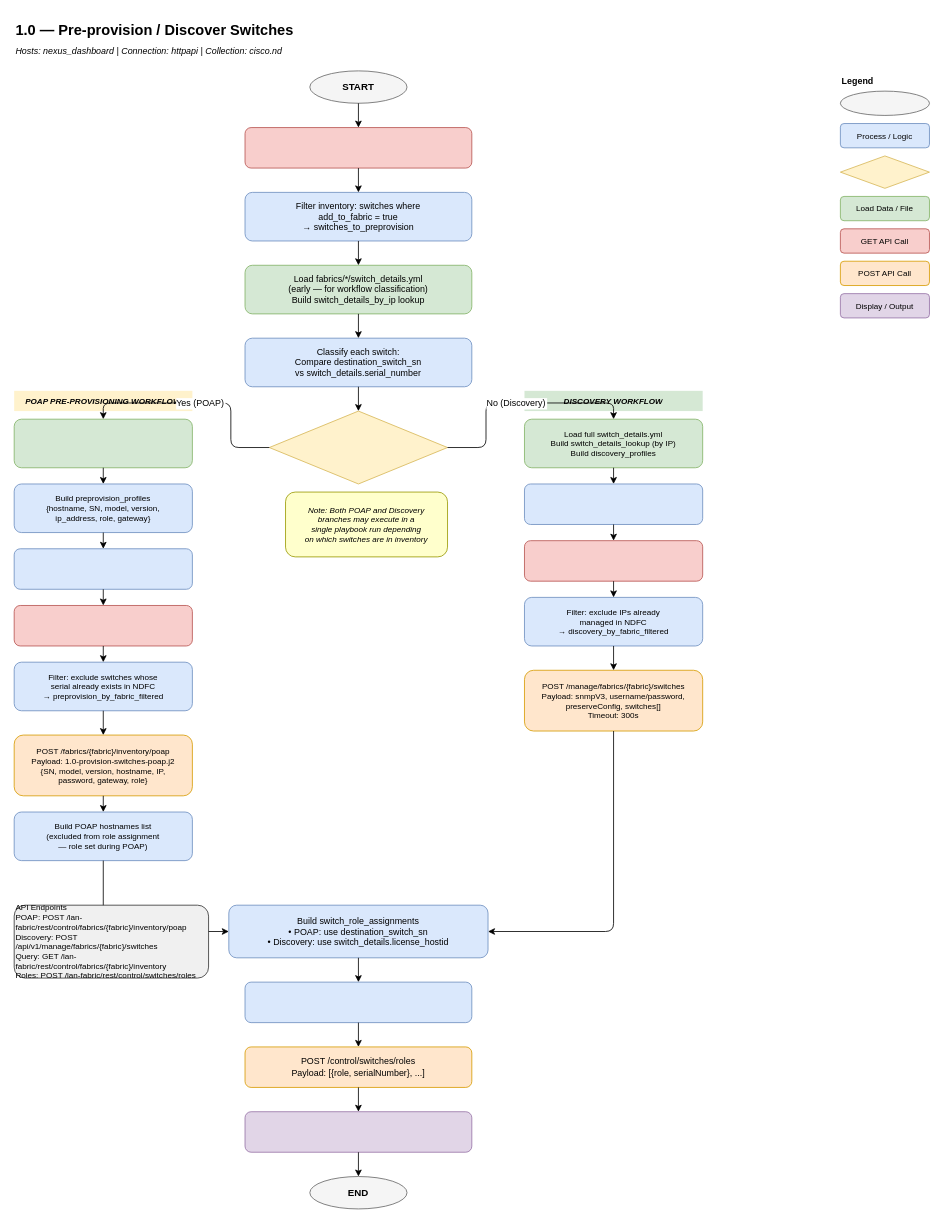
This 944x1223 diagram has some shape labels left out. The shapes that lost their labels are listed below. From the top down, each one's centre as x and y in pixels, then its label:
point (884, 102): Start / End
point (358, 147): Pre-flight: Verify NDFC reachable GET /fabrics (preflight check)
point (884, 171): Decision
point (102, 443): Load static_routes.yml Load l3_interfaces.yml (gateway + prefix info)
point (358, 447): Serial mismatch AND model+version defined?
point (613, 503): Group discovery profiles by fabric → discovery_by_fabric
point (102, 568): Group POAP profiles by fabric → preprovision_by_fabric
point (613, 560): GET /fabrics/{fabric}/inventory (query existing managed IPs)
point (102, 625): GET /fabrics/{fabric}/inventory (query existing switch serials)
point (358, 1002): Group role assignments by fabric → roles_by_fabric
point (358, 1131): Display role assignment results (SUCCESS per fabric)
